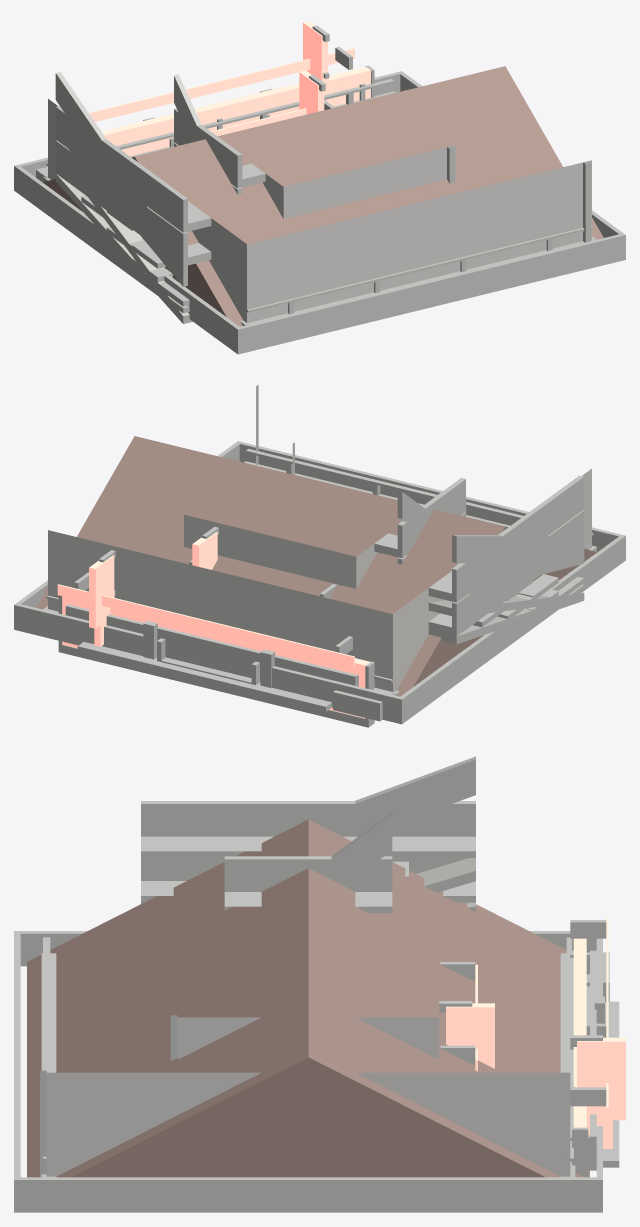
File: building.glb
3 views of the same model, one above another, from view 1: azimuth 30°, elevation 25°; view 2: azimuth 150°, elevation 25°; view 3: azimuth 270°, elevation 25° (orthographic). The views are drawn at different scales.
Visible parts, largest first — view 1: fp2_roof_gable, fp2_base, fp2_fence, fp2_exstair_base, fp2_exstair, fp1_base, fp2_floor, fp2_sign_roof, fp2_roof3, fp1_exstair_base, fp2_awning, fp2_sign_blade (+3 smaller); view 2: fp2_roof_gable, fp2_base, fp2_fence, fp2_exstair_base, fp2_exstair, fp2_floor, fp1_base, fp2_sign_roof, fp2_balcony, fp2_plinth, fp2_awning, fp1_exstair_base (+5 smaller); view 3: fp2_roof_gable, fp2_fence, fp2_base, fp2_exstair_base, fp2_floor, fp1_exstair_base, fp2_exstair, fp1_base, fp2_sign_blade, fp2_sign_roof, fp1_sign_blade, fp2_roof3 (+5 smaller).
Part boxes in pixels (x1,y1,x2,y2): fp2_roof_gable: (43, 66, 603, 326); fp2_base: (48, 99, 591, 323); fp2_fence: (14, 71, 625, 354); fp2_exstair_base: (55, 72, 211, 323); fp2_exstair: (55, 109, 211, 323); fp1_base: (262, 145, 455, 218); fp2_floor: (48, 133, 591, 322); fp2_sign_roof: (101, 65, 374, 156); fp2_roof3: (46, 79, 593, 314); fp1_exstair_base: (174, 74, 265, 188); fp2_awning: (89, 47, 354, 121); fp2_sign_blade: (303, 21, 329, 80); fp2_roof_gable: (36, 436, 597, 696); fp2_base: (48, 385, 591, 692); fp2_fence: (14, 441, 625, 724); fp2_exstair_base: (428, 475, 584, 617); fp2_exstair: (428, 510, 584, 644); fp2_floor: (48, 419, 591, 691); fp1_base: (184, 442, 377, 588); fp2_sign_roof: (58, 595, 374, 727); fp2_balcony: (65, 604, 358, 686); fp2_plinth: (77, 642, 394, 721); fp2_awning: (57, 572, 354, 667); fp1_exstair_base: (374, 478, 465, 558); fp2_roof_gable: (27, 819, 589, 1177); fp2_fence: (14, 931, 604, 1212); fp2_base: (40, 1070, 570, 1177); fp2_exstair_base: (141, 756, 475, 903); fp2_floor: (40, 1115, 570, 1177); fp1_exstair_base: (224, 812, 392, 913); fp2_exstair: (141, 805, 475, 912); fp1_base: (170, 1015, 439, 1060); fp2_sign_blade: (570, 1035, 625, 1120); fp2_sign_roof: (572, 938, 588, 1177); fp1_sign_blade: (439, 1001, 494, 1068); fp2_roof3: (43, 937, 573, 1161).
Bounding box in the file's own units: 3.66 × 1.52 × 3.74.
